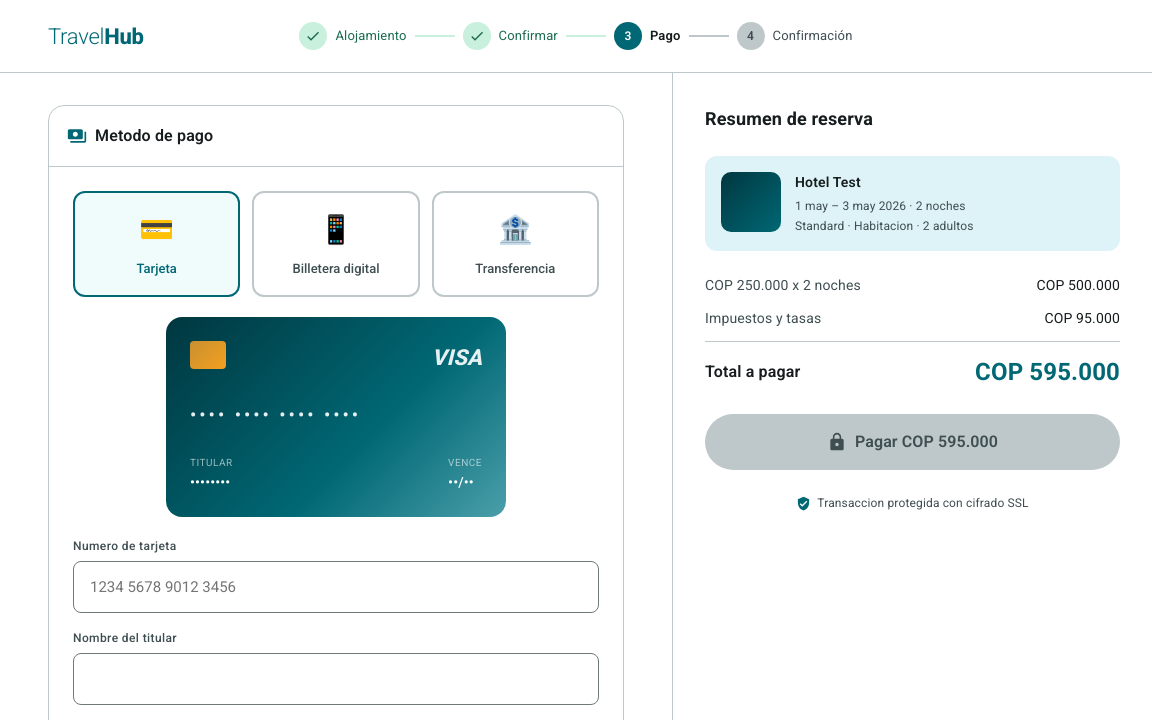
Test: PaymentPage › switches to the wallet form when the wallet tab is selected
Click the radio button labelled "📱 Billetera digital": click(336, 244) [252, 191, 420, 296]
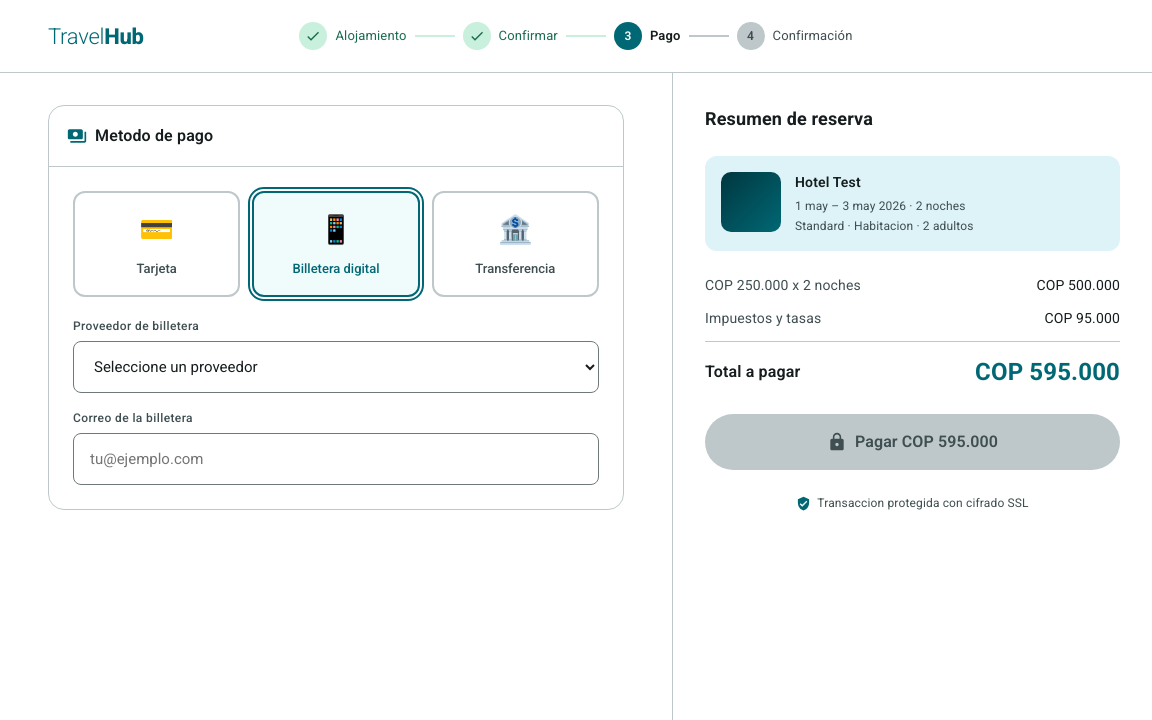
Now the text "Proveedor de billetera" is shown, box [73, 318, 199, 332]
Now the text "Numero de tarjeta" is gone
